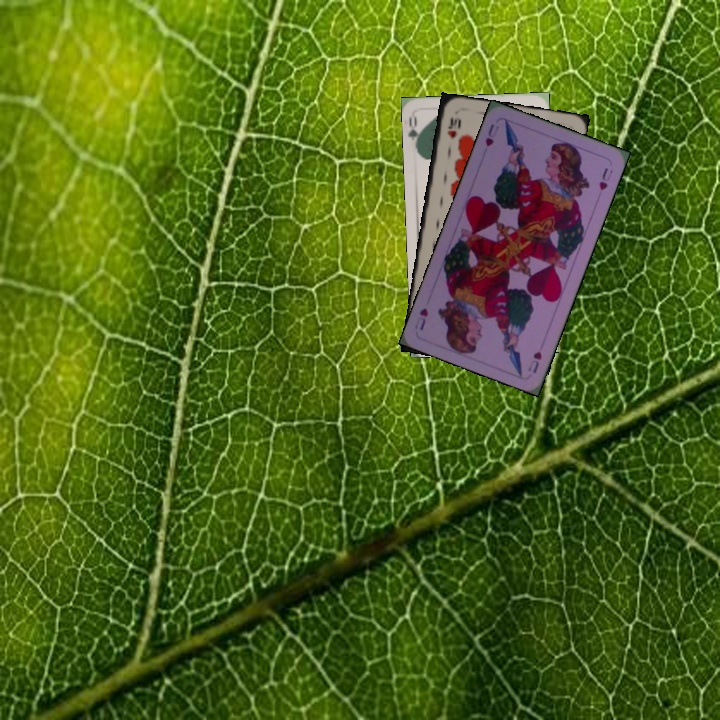GO: (405, 112, 425, 152)
H10: (443, 113, 461, 142)
HU: (524, 347, 545, 376), (481, 120, 501, 149)
